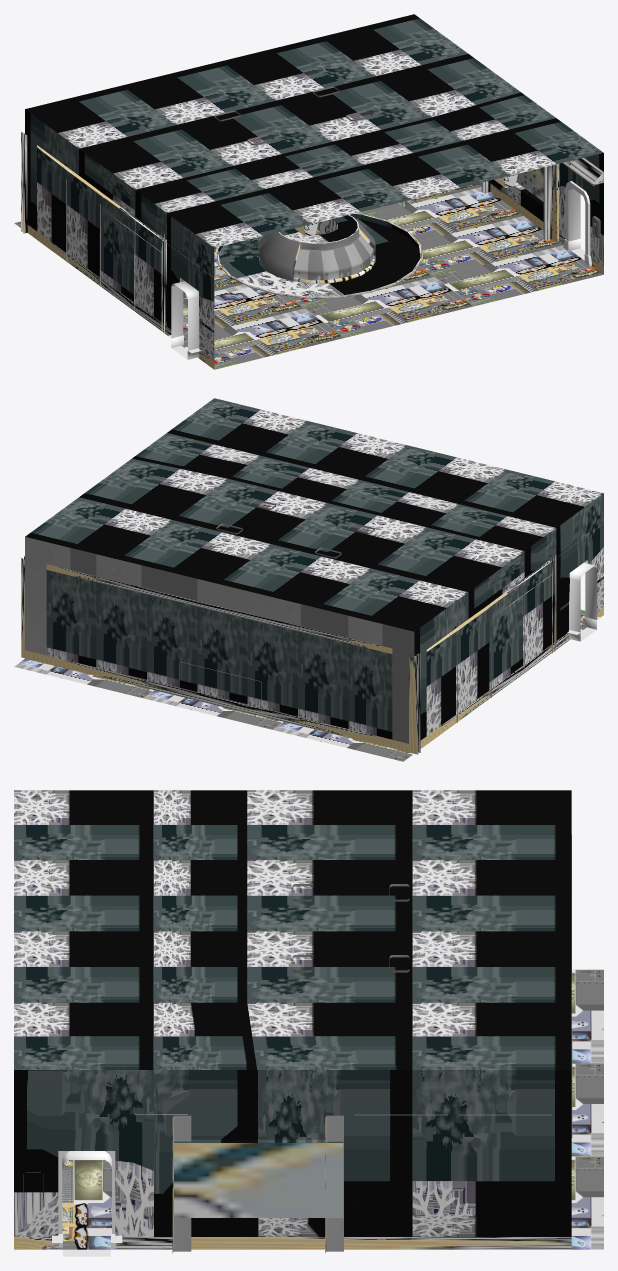
File: MSH_Overseer_L1_R2_optimized.fbx
The picture shows the model from 3 angles, top to bottom: view 1: azimuth 30°, elevation 25°; view 2: azimuth 150°, elevation 25°; view 3: azimuth 270°, elevation 25°; orthographic projection. The views are drawn at different scales.
Parts seen in each view (by area): view 1: lightmap0; view 2: lightmap0; view 3: lightmap0.
Boxes of the visible parts, x1=… form: lightmap0: x1=14, y1=14, x2=603, y2=369; lightmap0: x1=14, y1=398, x2=603, y2=761; lightmap0: x1=14, y1=790, x2=603, y2=1256.
Size of the model in its own units: 20.61 by 6.15 by 17.47.
